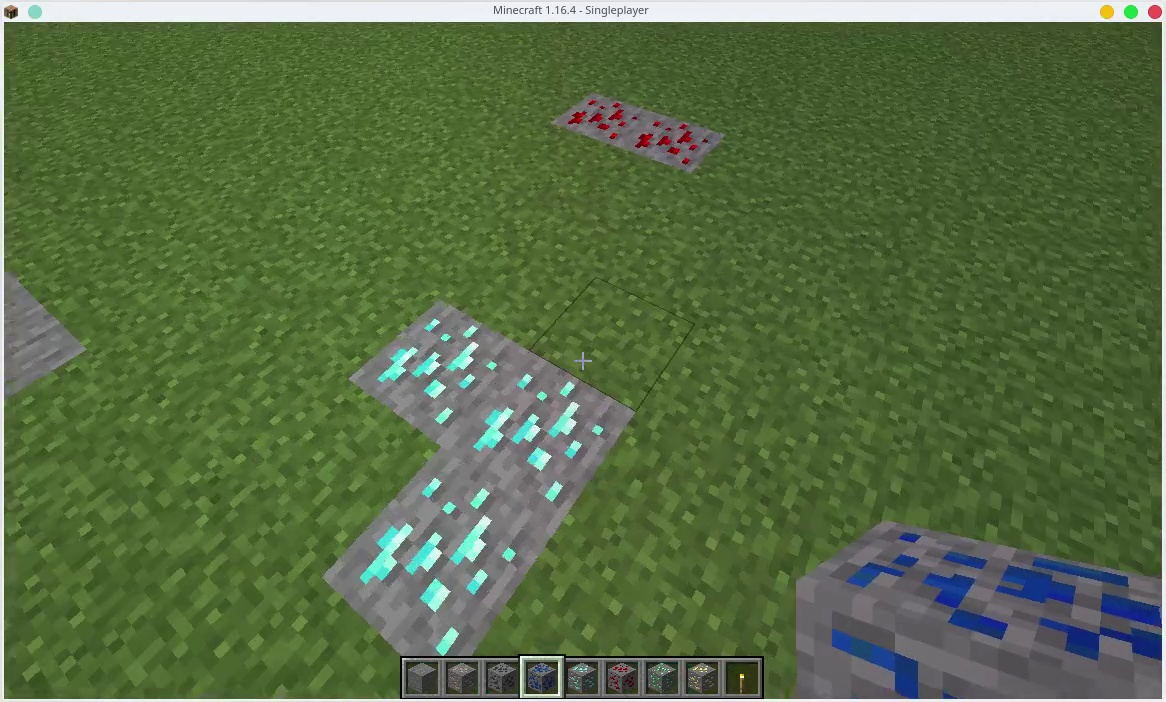gold: (689, 665, 720, 694)
